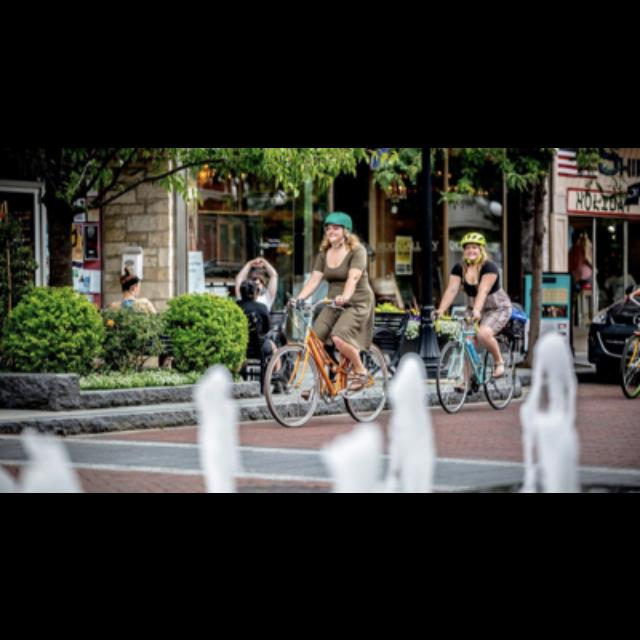With Helmet: (322, 208, 354, 248), (459, 226, 486, 264)
